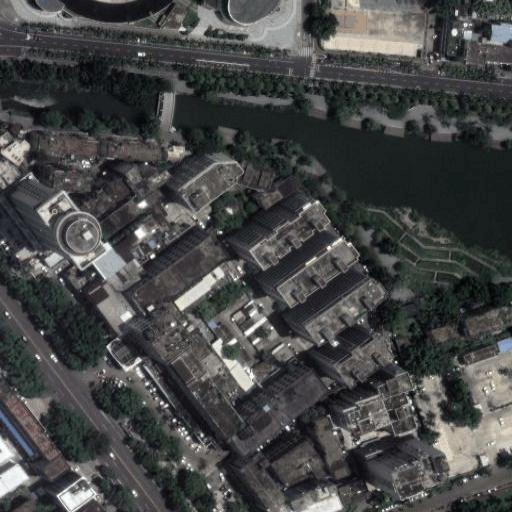building: (128, 233, 226, 315), (144, 356, 223, 449), (166, 347, 244, 438), (255, 231, 343, 304), (283, 266, 365, 337), (37, 190, 108, 271), (226, 192, 307, 262), (241, 459, 345, 512), (318, 0, 424, 51), (170, 152, 266, 205), (342, 372, 418, 437), (266, 369, 331, 428), (172, 261, 234, 314), (100, 187, 164, 237), (310, 323, 368, 375), (140, 309, 194, 364), (86, 281, 139, 337), (228, 404, 284, 456), (361, 439, 420, 485), (271, 442, 326, 490), (311, 417, 351, 481), (211, 338, 255, 390), (0, 401, 38, 460), (79, 177, 131, 220), (209, 321, 251, 366), (114, 220, 154, 263), (106, 330, 146, 371), (464, 303, 512, 337), (55, 476, 97, 512), (126, 165, 171, 197), (108, 257, 145, 294), (91, 247, 128, 282), (228, 0, 277, 25), (244, 350, 280, 383), (258, 172, 295, 203), (109, 142, 163, 163), (44, 136, 98, 156), (467, 42, 512, 65), (51, 170, 93, 192), (41, 453, 70, 482), (337, 478, 368, 505), (238, 310, 267, 336), (64, 263, 90, 291), (160, 5, 189, 30), (253, 329, 281, 354), (246, 319, 274, 344), (431, 322, 461, 345), (231, 301, 258, 326), (448, 22, 466, 57), (464, 347, 496, 366), (272, 342, 296, 367), (132, 238, 157, 261), (491, 22, 512, 46), (165, 299, 186, 323), (395, 334, 414, 356), (45, 249, 65, 267), (400, 302, 418, 319), (497, 337, 512, 354), (162, 150, 182, 162), (463, 31, 482, 43), (154, 241, 167, 254), (158, 15, 168, 26), (172, 146, 184, 152)
